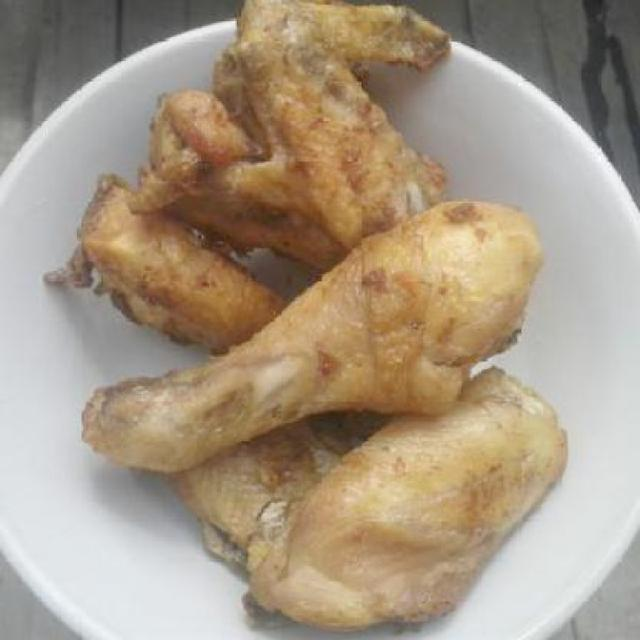Frango: (100, 370, 582, 635), (117, 2, 509, 226), (215, 231, 510, 391), (38, 141, 277, 328)
